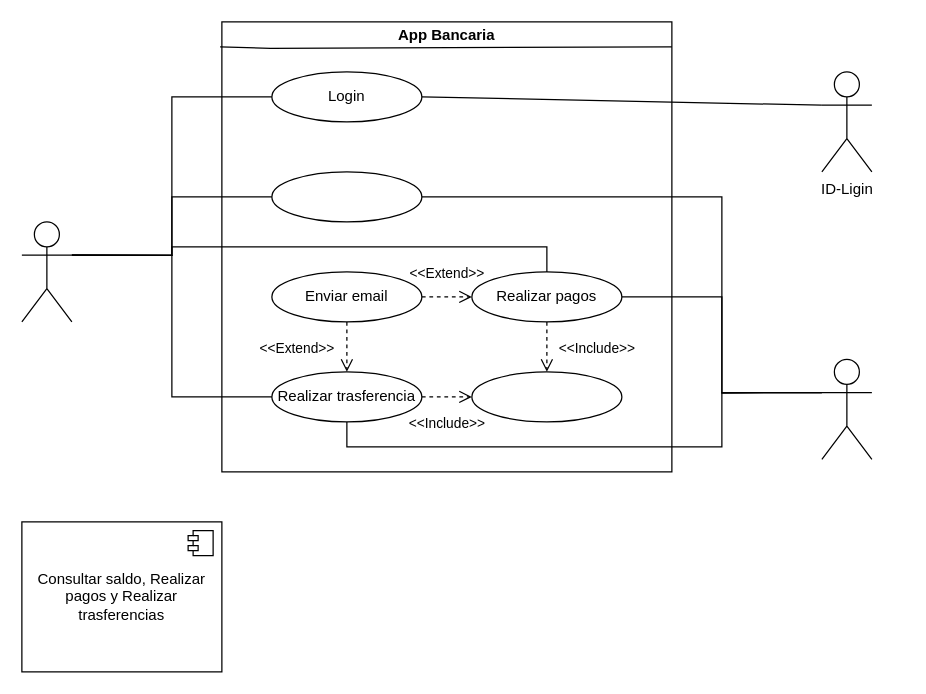
The diagram is 926 pixels wide and 694 high, and some of its shapes have lost their labels. Each missing label, with the centre of its shape:
Cliente: point 46,271
Comprobar saldo: point 546,396
Consultar saldo: point 346,196
Sistema bancario: point 846,408
